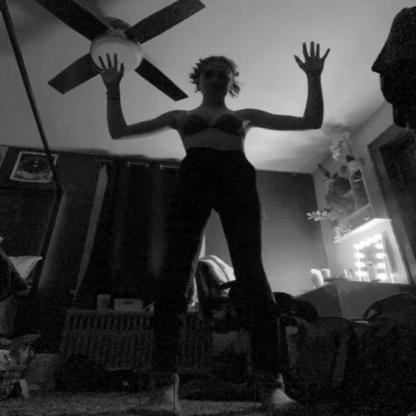person: (94, 41, 332, 414)
